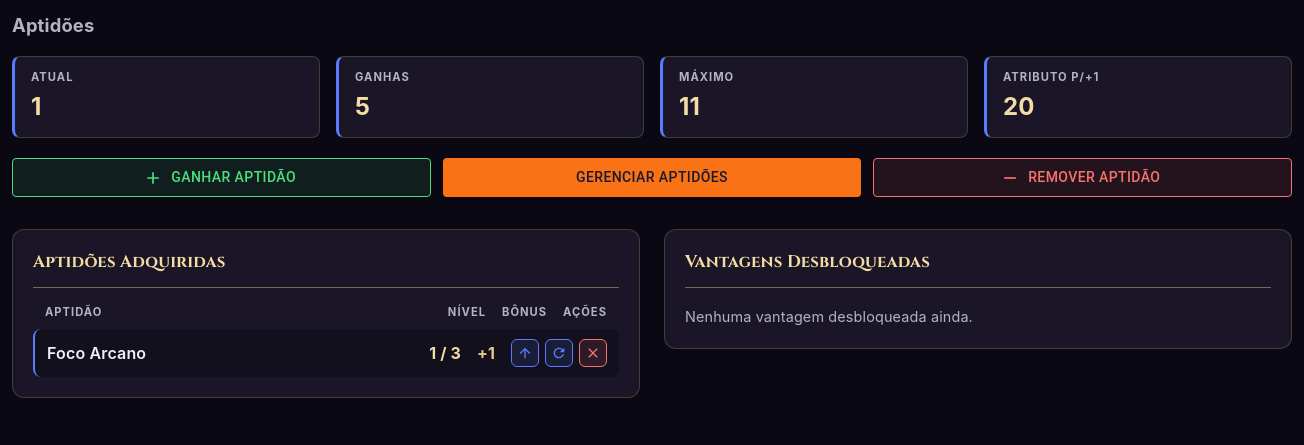
Test: AptidoesTab — fluxo de aquisição/remoção › reverte o upgrade e mostra mensagem de erro quando o Firestore rejeita
The image size is (1304, 445).
Click the button named "upar foco arcano": (525, 353) [511,339,539,367]
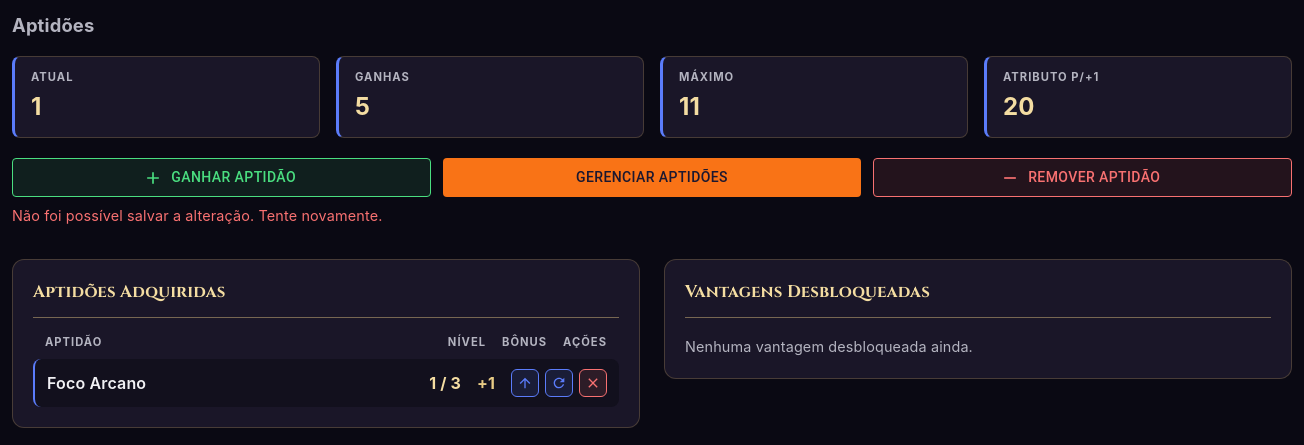
Expected: the text "1 / 3" is shown, [429,370,461,394]
Expected: the text "Não foi possível salvar a alteração. Tente novamente." is shown, [12,207,382,224]
